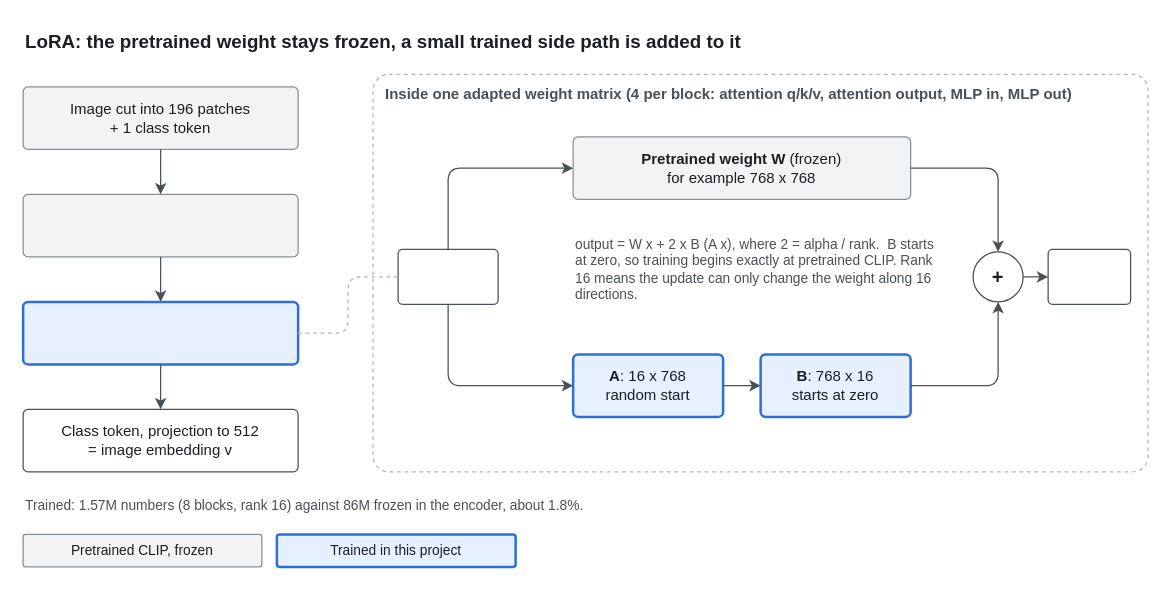
The diagram is 1170 pixels wide and 589 high, and some of its shapes have lost their labels. The shapes that lost their labels are listed below. From the top down, each one's centre as x and y in pixels, then its label:
At point (160, 225): "Blocks 1-4 frozen, no adapter".
At point (447, 276): "input x".
At point (1089, 276): "output".
At point (160, 332): "Blocks 5-12 frozen weights + LoRA".
